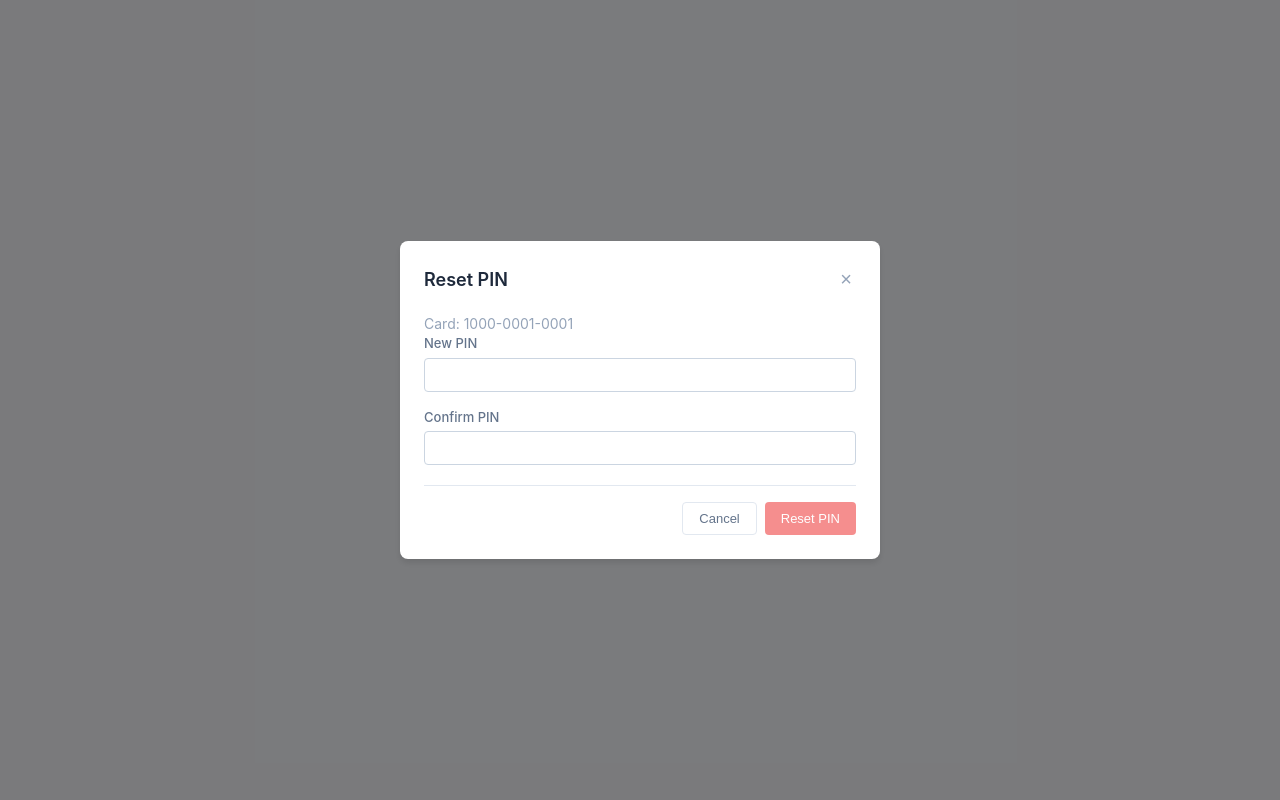
Scenario: PinResetModal › shows error on submit failure
This screenshot has width=1280, height=800.
Type "4826" into the password field labelled "New PIN" at (640, 374), box [424,358,856,392]
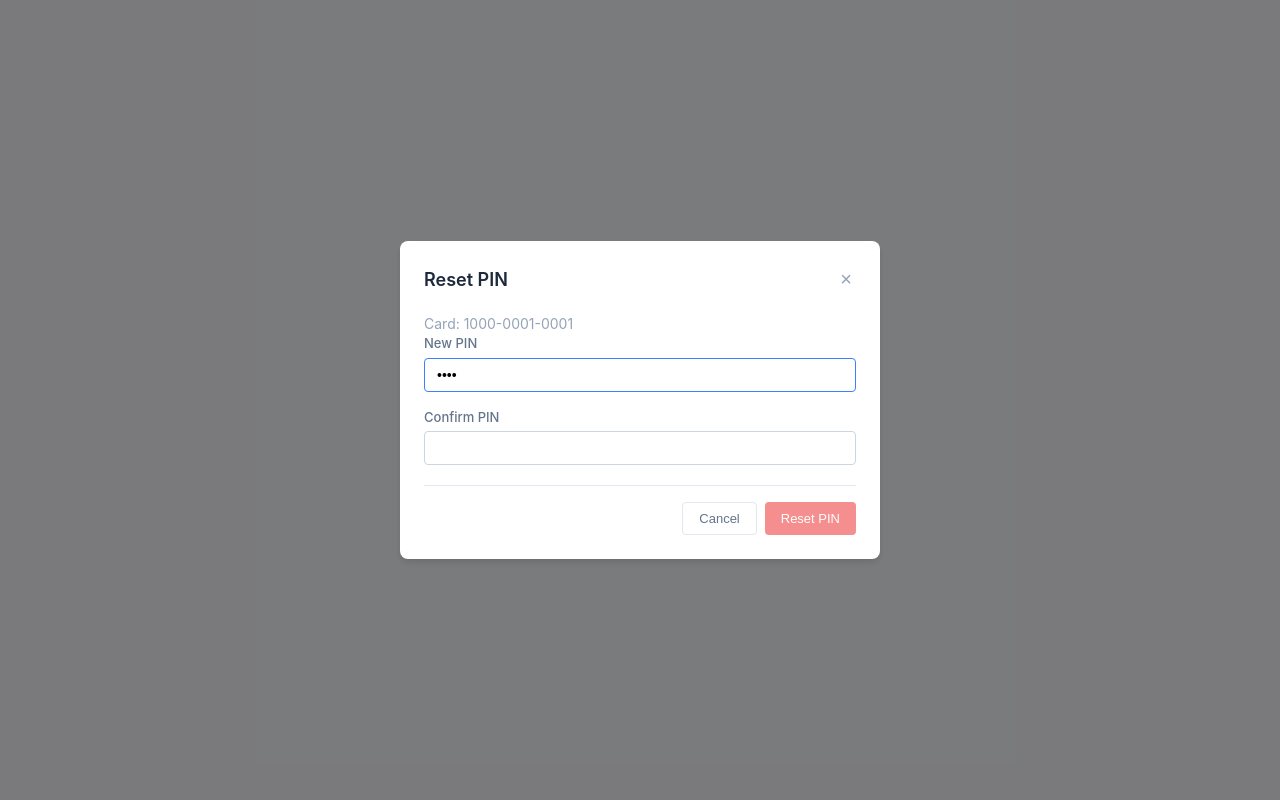
Type "4826" into the password field labelled "Confirm PIN" at (640, 448), box [424,431,856,465]
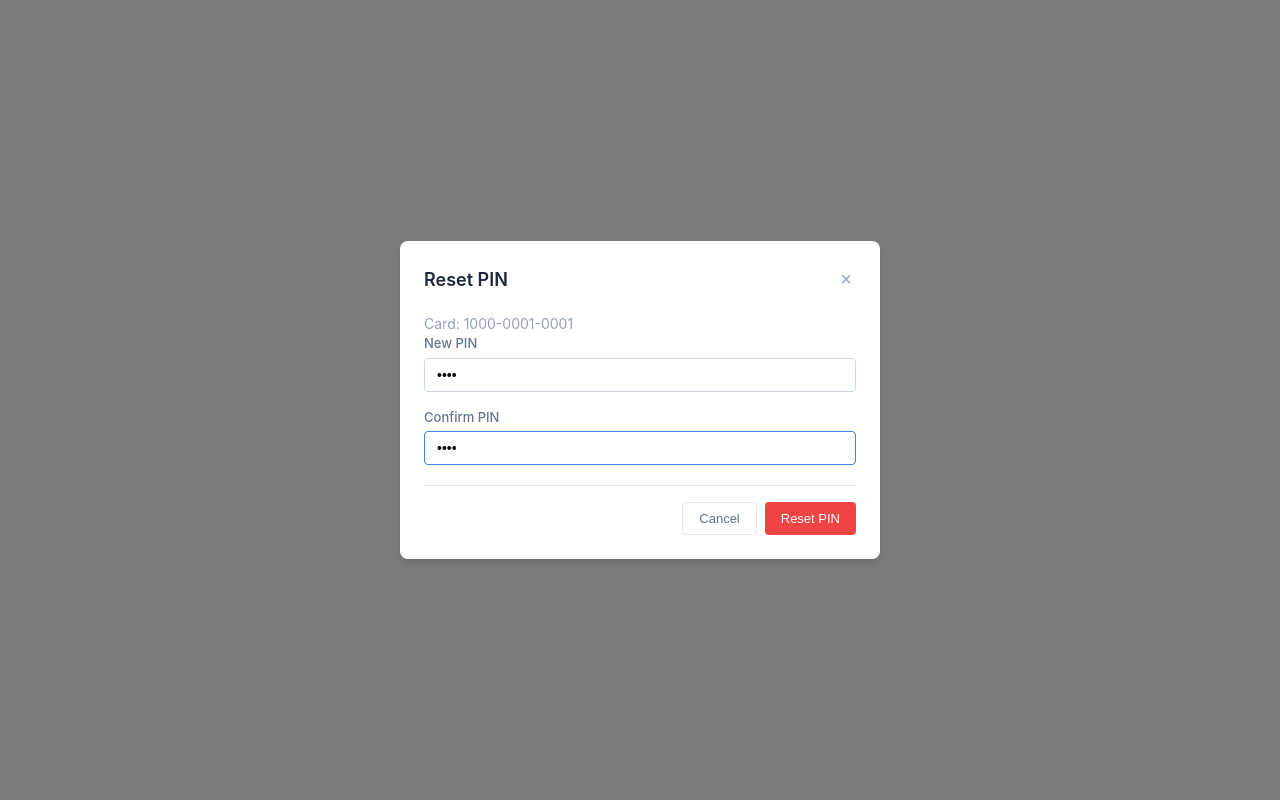
Click the button "Reset PIN" at (810, 518), box [765,502,856,535]
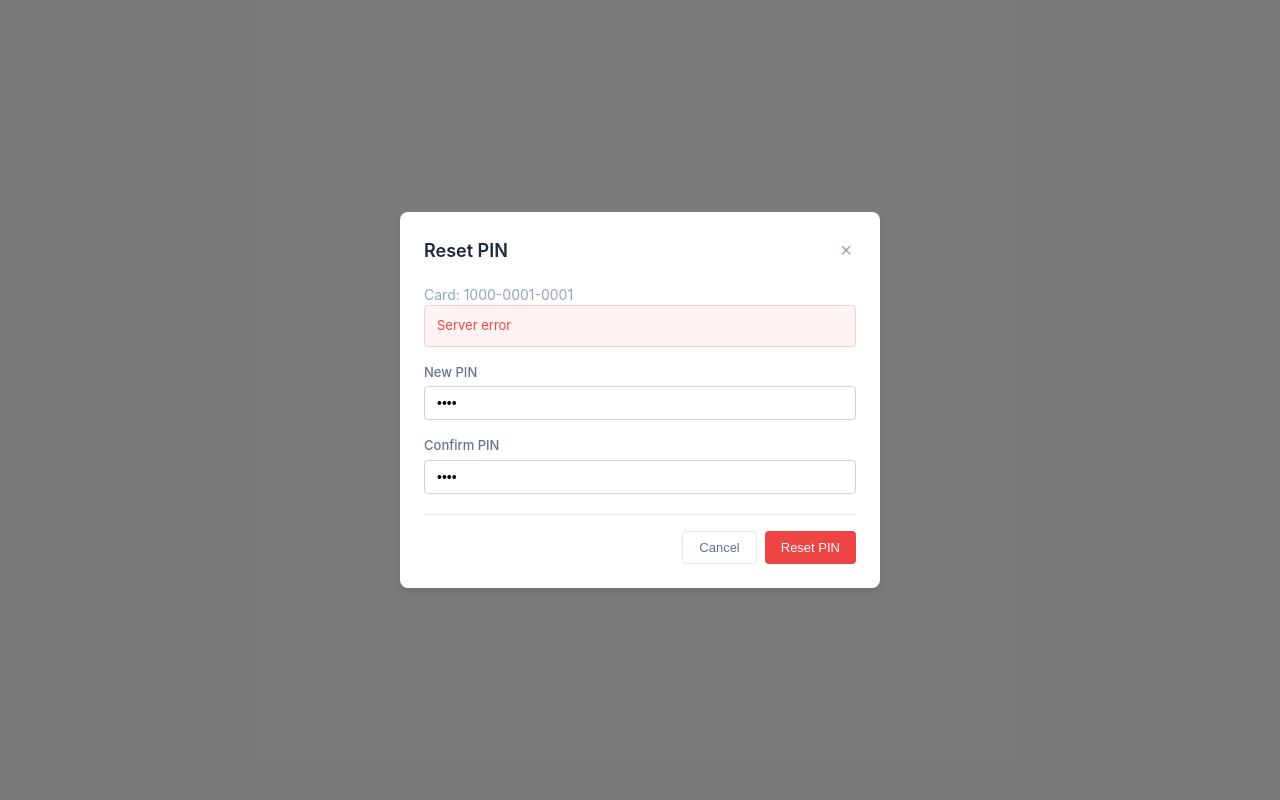
Result: the text "Server error" is shown at [424,305,856,347]
